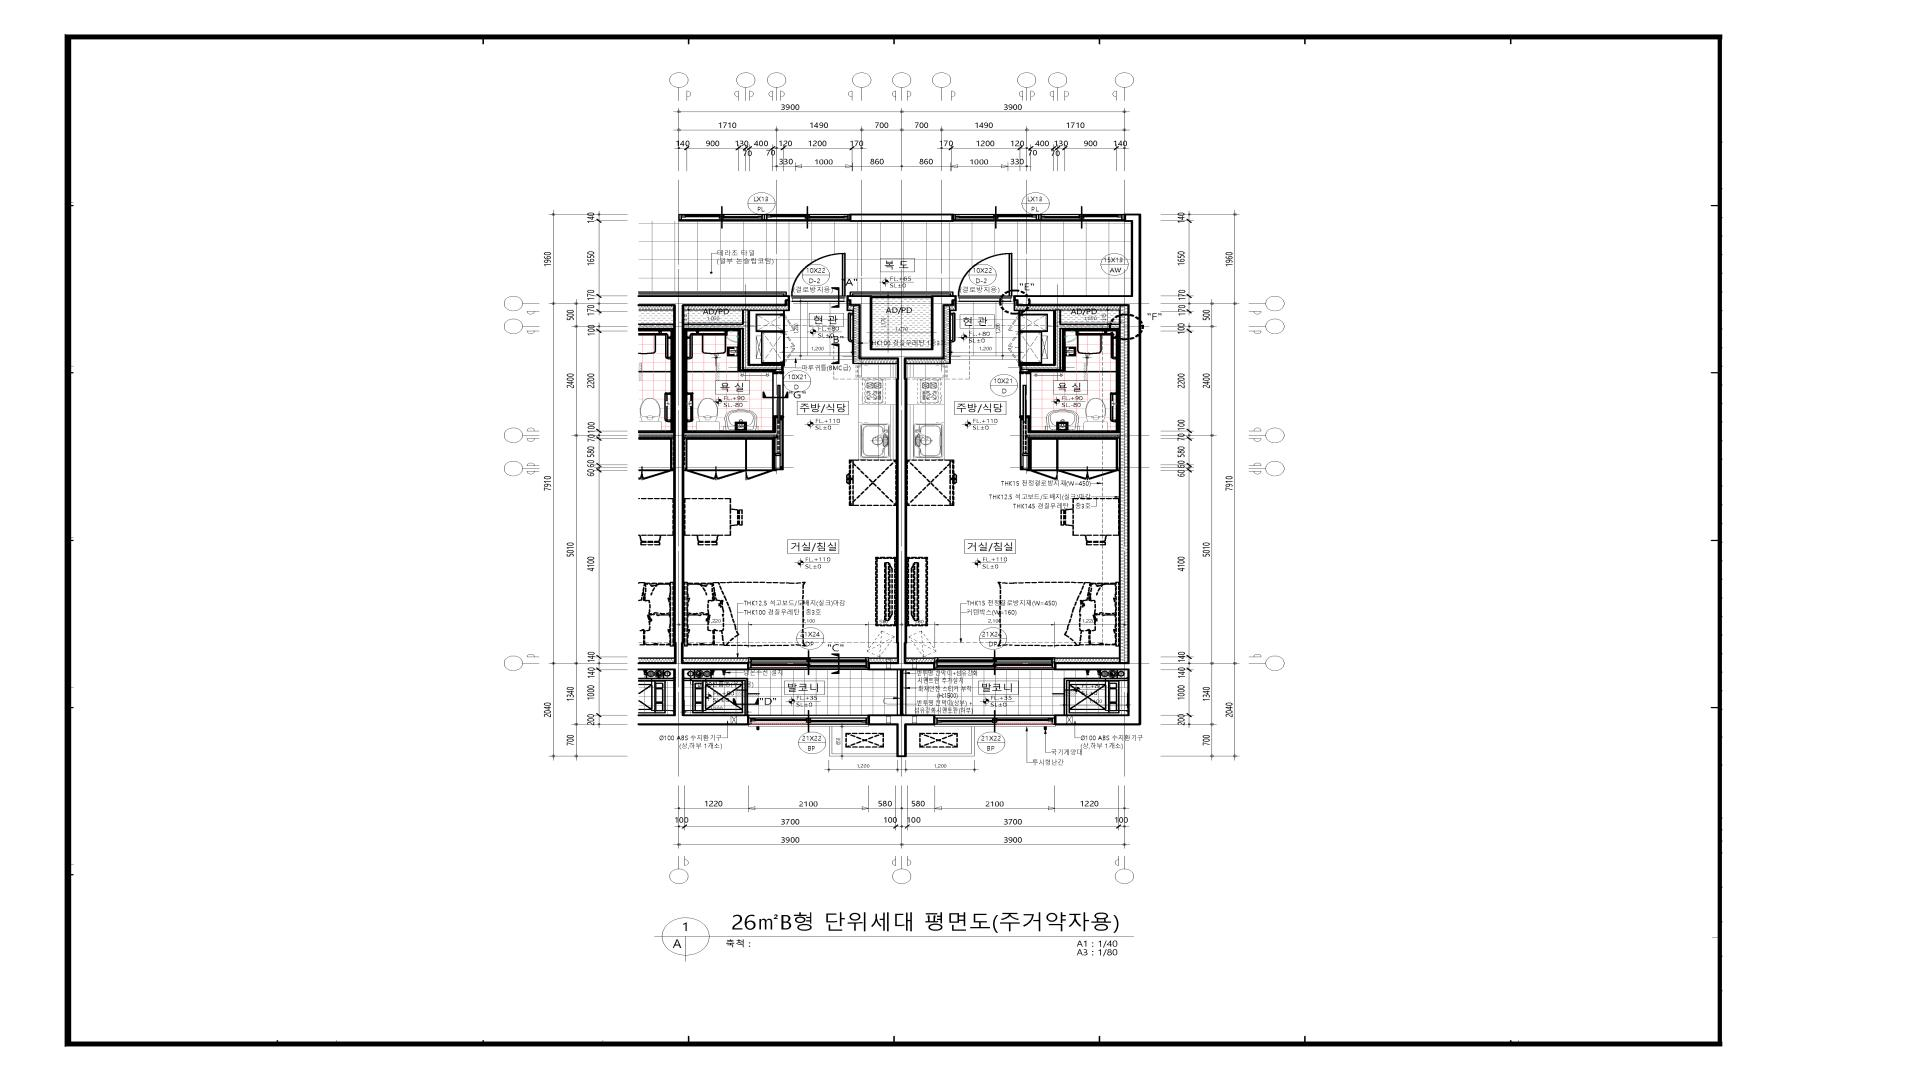door: (957, 252, 1013, 302), (790, 252, 847, 301), (773, 371, 785, 417), (1019, 371, 1031, 417)
wall: (868, 360, 935, 670), (1013, 214, 1142, 306), (847, 295, 957, 360), (637, 662, 749, 725), (684, 309, 783, 371), (1019, 310, 1120, 371), (1054, 662, 1141, 725), (1127, 306, 1142, 662), (673, 306, 686, 662), (868, 715, 935, 757), (1027, 417, 1121, 440), (684, 415, 777, 439), (638, 295, 790, 306), (851, 214, 953, 222)
window: (935, 657, 1054, 670), (749, 657, 868, 670), (935, 715, 1054, 727), (678, 214, 851, 222), (953, 214, 1124, 222), (749, 715, 868, 725)
